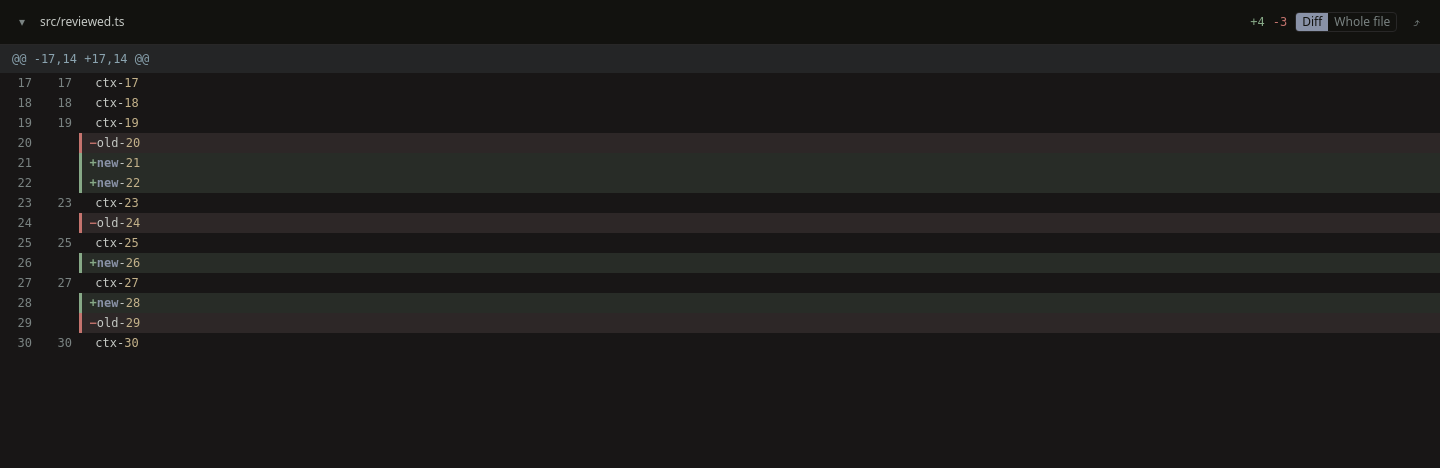
Test: SidebarDiffView inline comment threads › save closes the popup and renders the thread without remount
Click the row "28 +new-28": [720, 303] box 0,293 -> 1439,313
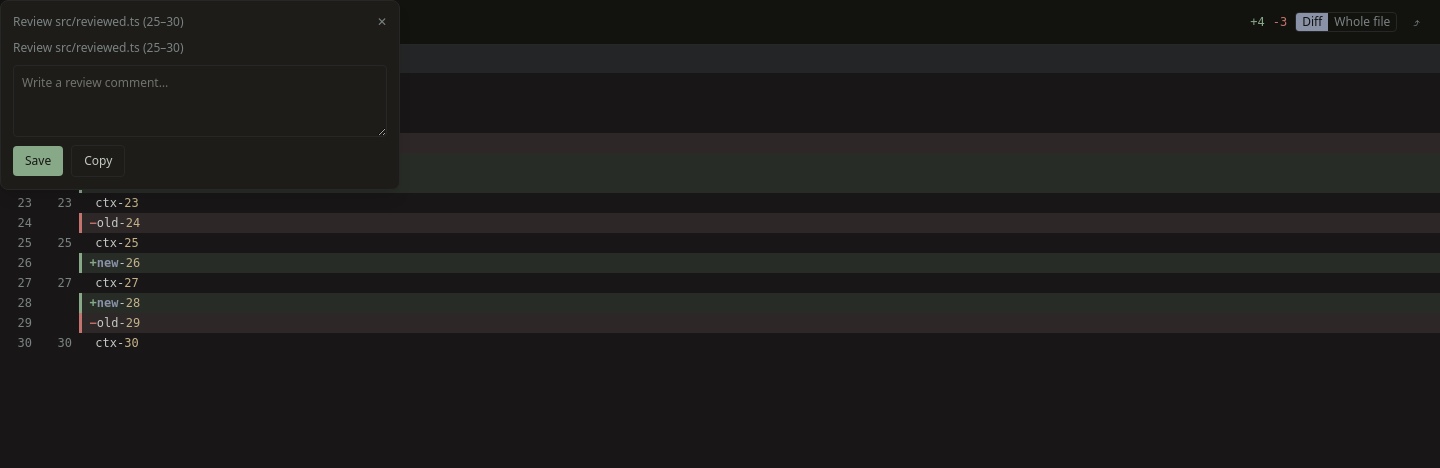
Check: the element showing "Review src/reviewed.ts (25–30) Save Copy" is shown, box 13,39 -> 387,177
In the text box with test id "diff-comment-input": [200, 101] box 13,65 -> 387,137, type "fresh thread 28"
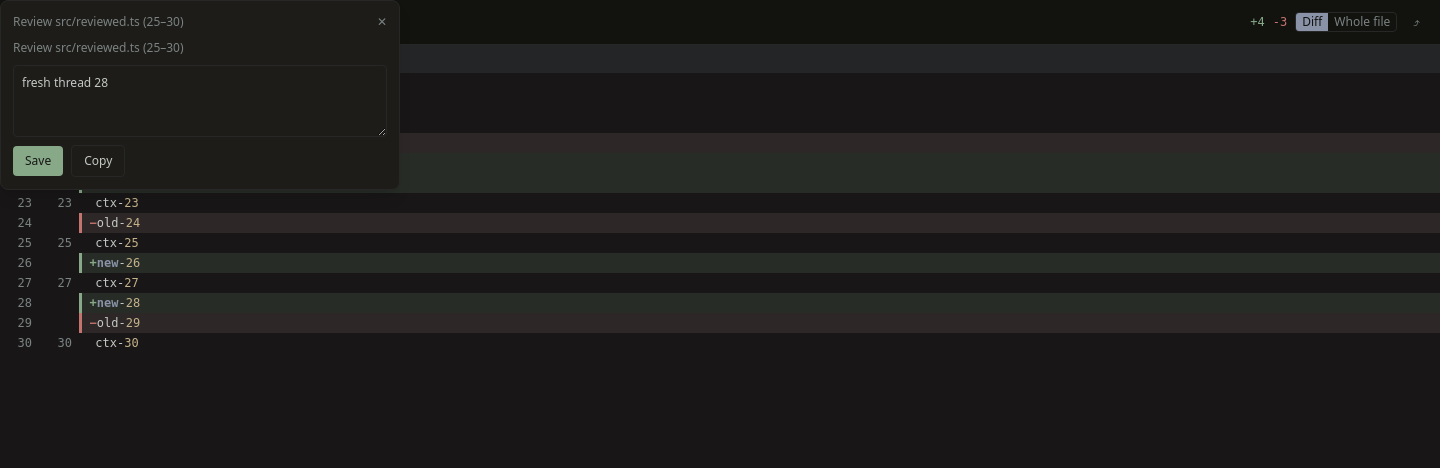
Click the button with test id "diff-comment-save": [38, 161] box 13,146 -> 63,176
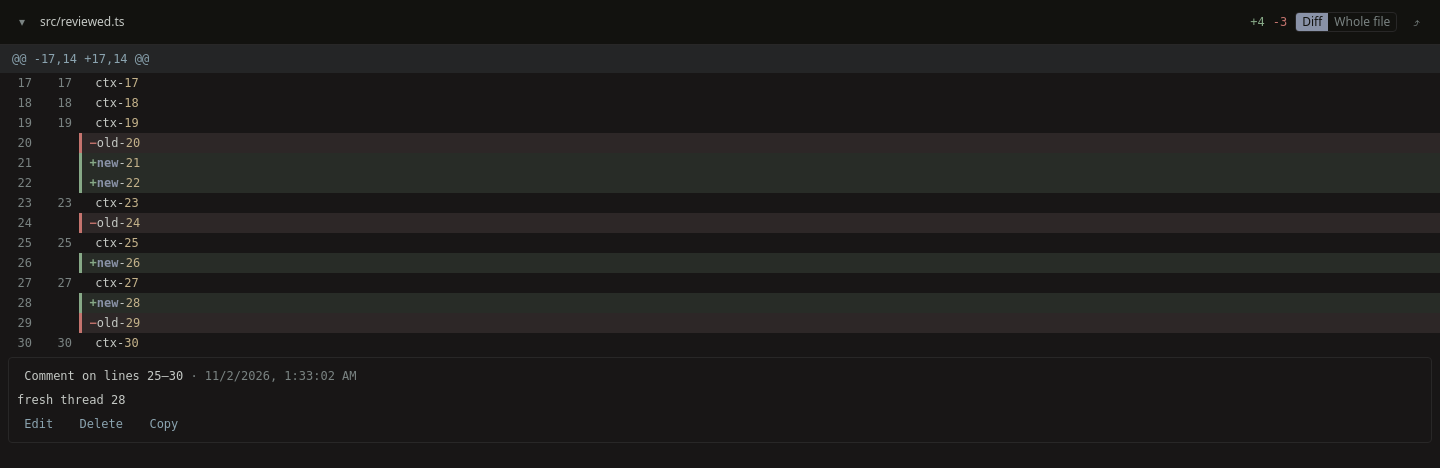
Check: the number of rows with test id "diff-comment-thread" is 1, box 0,353 -> 1439,451
Check: the text with test id "diff-comment-message" reads "fresh thread 28", box 17,393 -> 125,407
